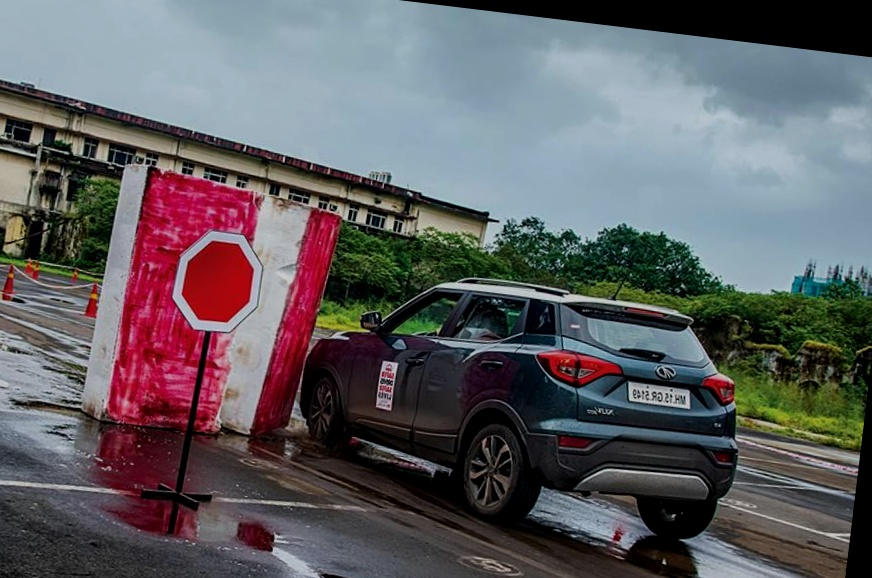car: (284, 230, 777, 561)
